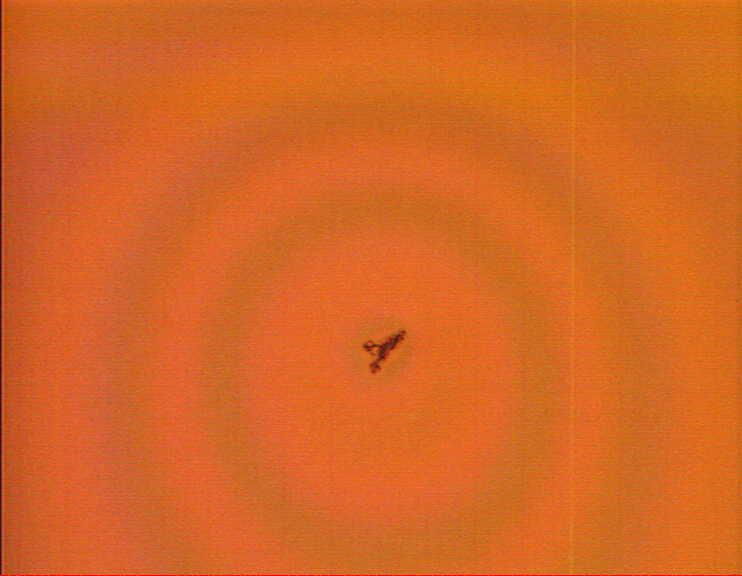PIQ PARTICLE: (354, 319, 418, 383)
